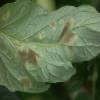Tomato mold leaf: (0, 2, 100, 96)
